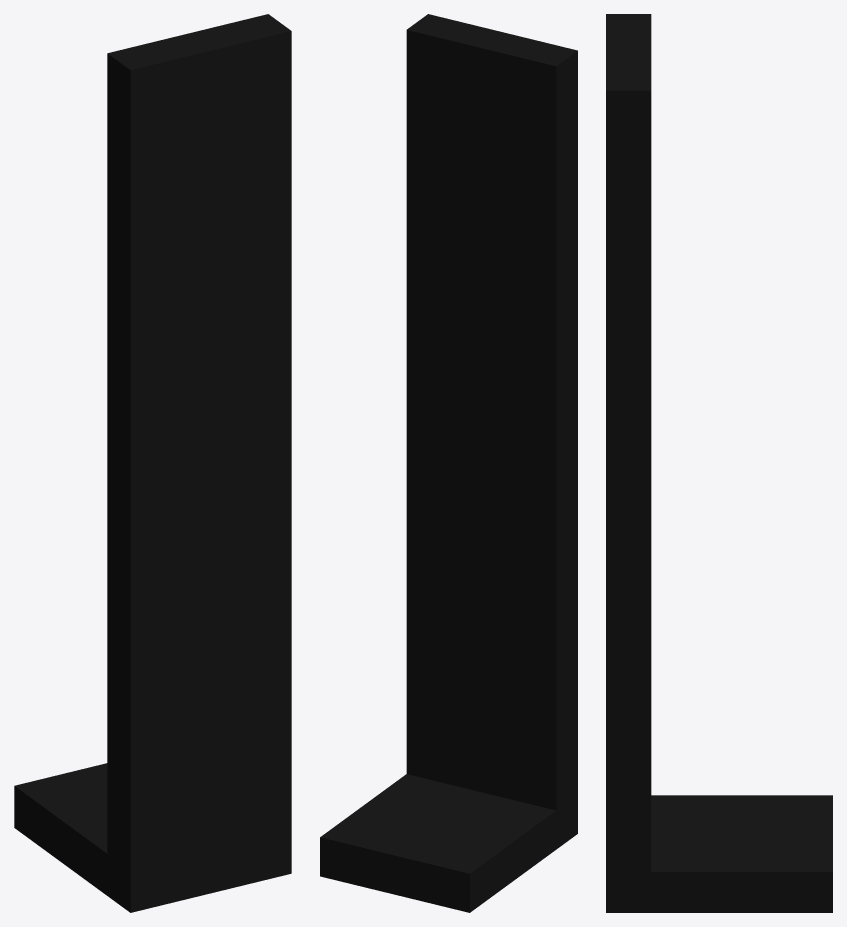
File: suport.fbx
The picture shows the model from 3 angles, left to right: view 1: azimuth 30°, elevation 25°; view 2: azimuth 150°, elevation 25°; view 3: azimuth 270°, elevation 25°; orthographic projection. The views are drawn at different scales.
Visible parts, largest first — view 1: cube_1, cube; view 2: cube_1, cube; view 3: cube_1, cube.
Boxes of the visible parts, left/top/right/bottom form: cube_1: left=107, top=14, right=291, bottom=912; cube: left=14, top=763, right=107, bottom=895; cube_1: left=406, top=14, right=577, bottom=849; cube: left=320, top=774, right=556, bottom=912; cube_1: left=606, top=14, right=651, bottom=912; cube: left=651, top=795, right=832, bottom=912.
Bounding box in the file's own units: 25 × 125 × 31.25.
1 material, 1 textured.
